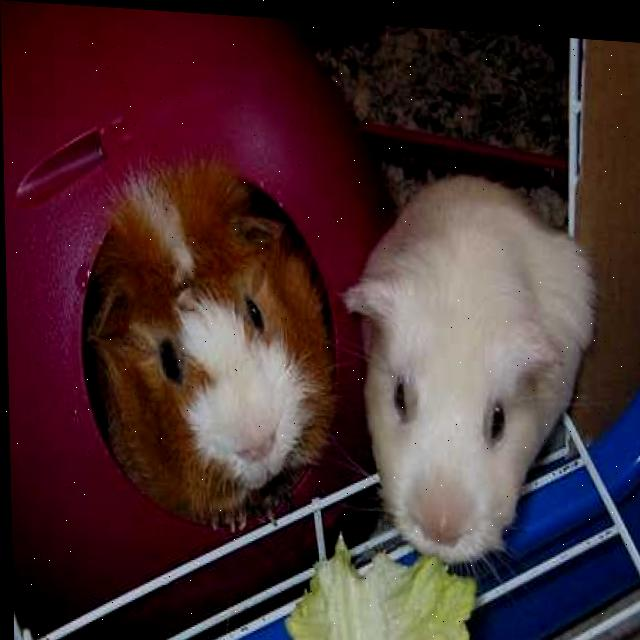guinea pig: (348, 162, 608, 562), (94, 162, 334, 531)
